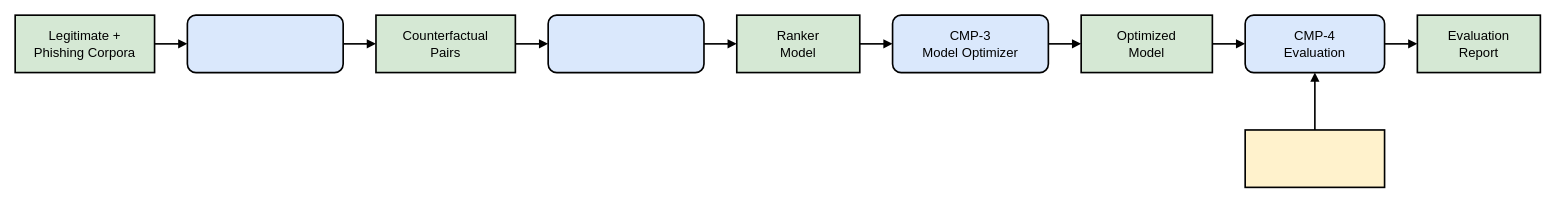
The diagram is 1555 pixels wide and 202 high, and some of its shapes have lost their labels. The shapes that lost their labels are listed below. From the top down, each one's box as (x1, y1, x2, y2) in pixels, then its label:
(186, 14, 344, 73): CMP-1 Corpus Processor
(547, 14, 704, 73): CMP-2 Ranker Trainer
(1244, 129, 1385, 188): Test Set + Baseline
